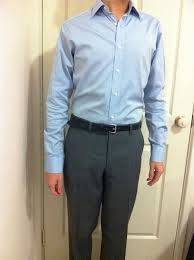F_belt: (61, 112, 154, 141)
F_dress pants: (57, 128, 148, 258)
F_shirt: (40, 8, 171, 174)
